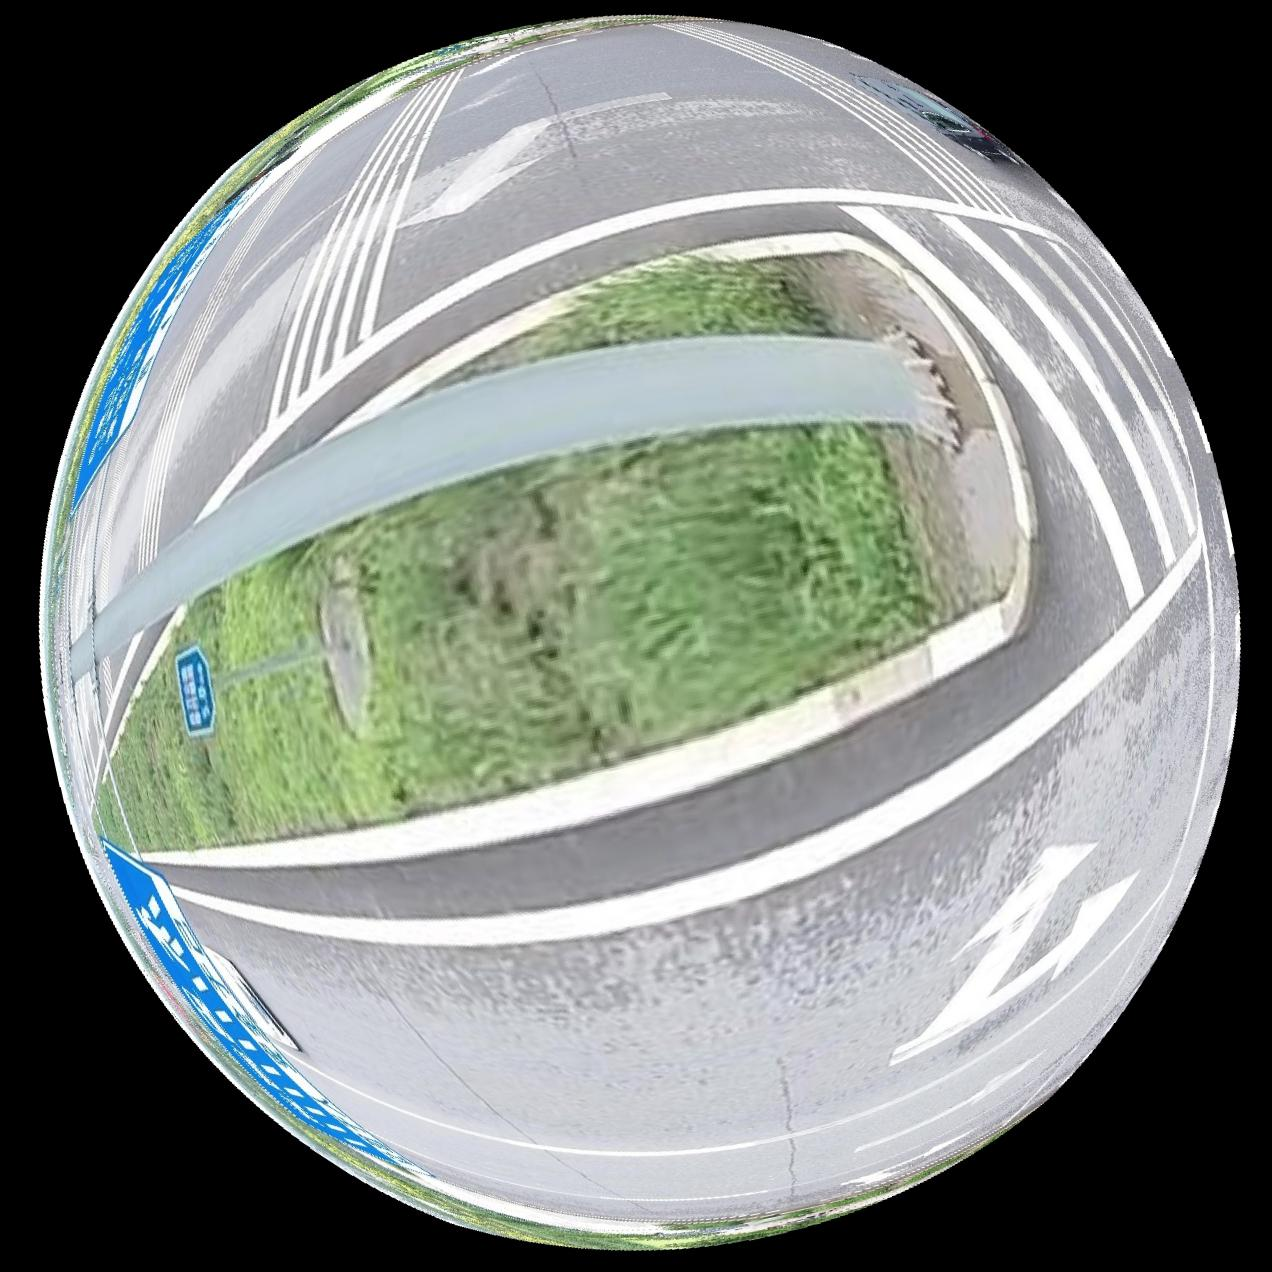cars: (851, 71, 1022, 161)
trees: (96, 421, 933, 849), (450, 253, 831, 376)
